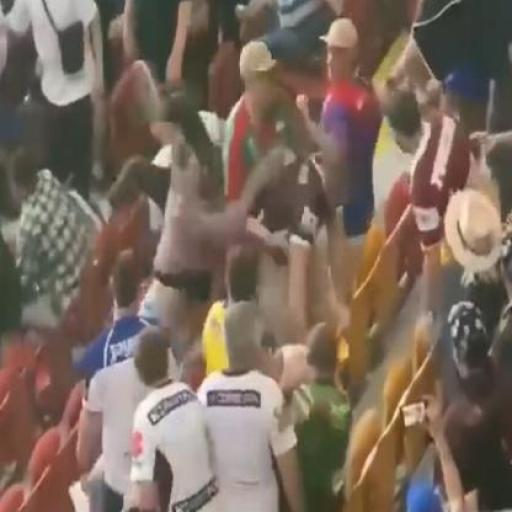Fighting: (4, 5, 508, 512)
